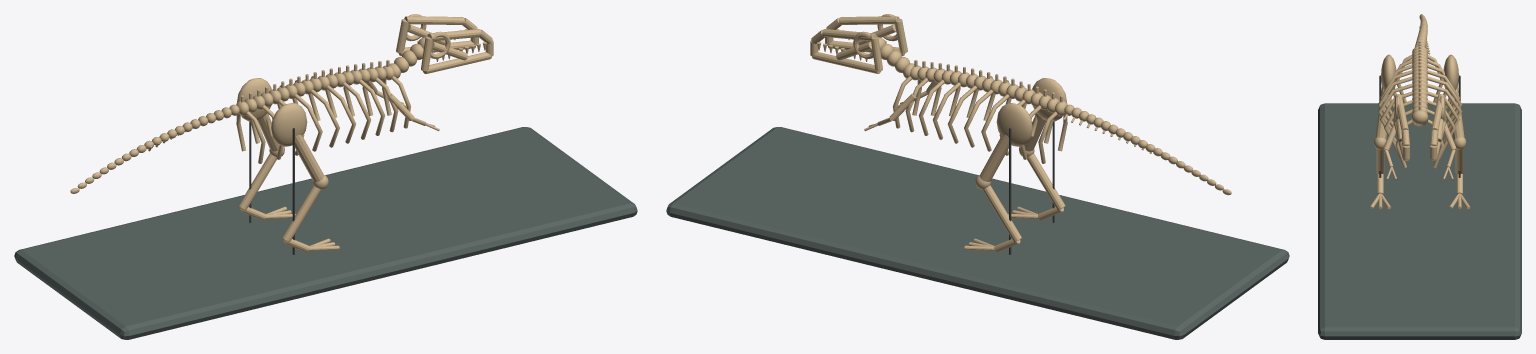
The model's file is TheropodSkeleton.glb.
3 renders of one model, left to right at view 1: azimuth 30°, elevation 25°; view 2: azimuth 150°, elevation 25°; view 3: azimuth 270°, elevation 25°, orthographic. The views are drawn at different scales.
Visible parts, largest first — view 1: Low fossil display base, Pelvic girdle, Femur, Pelvic girdle.001, Tibia.001, Tibia, Skull bone strut.003, Skull bone strut.006; view 2: Low fossil display base, Pelvic girdle.001, Femur.001, Pelvic girdle, Tibia, Tibia.001, Skull bone strut.009, Skull bone strut; view 3: Low fossil display base, Pelvic girdle, Pelvic girdle.001, Skull bone strut, Skull bone strut.006, Curved rib.008, Curved rib.009, Femur, Femur.001, Curved rib.010, Curved rib.011, Tibia (+8 smaller).
Boxes of the visible parts, bbox=[...] form: Low fossil display base: bbox=[14, 127, 637, 339]; Pelvic girdle: bbox=[271, 103, 307, 146]; Femur: bbox=[295, 134, 324, 181]; Pelvic girdle.001: bbox=[237, 78, 271, 121]; Tibia.001: bbox=[238, 153, 276, 210]; Tibia: bbox=[282, 185, 320, 242]; Skull bone strut.003: bbox=[423, 52, 491, 73]; Skull bone strut.006: bbox=[404, 16, 464, 24]; Low fossil display base: bbox=[666, 127, 1289, 339]; Pelvic girdle.001: bbox=[996, 103, 1032, 146]; Femur.001: bbox=[979, 134, 1008, 181]; Pelvic girdle: bbox=[1032, 78, 1066, 121]; Tibia: bbox=[1027, 153, 1065, 210]; Tibia.001: bbox=[983, 185, 1021, 242]; Skull bone strut.009: bbox=[812, 52, 880, 73]; Skull bone strut: bbox=[839, 16, 899, 24]; Low fossil display base: bbox=[1318, 103, 1521, 339]; Pelvic girdle: bbox=[1381, 54, 1396, 94]; Pelvic girdle.001: bbox=[1443, 54, 1458, 94]; Skull bone strut: bbox=[1395, 94, 1408, 130]; Skull bone strut.006: bbox=[1431, 94, 1444, 130]; Curved rib.008: bbox=[1377, 76, 1412, 126]; Curved rib.009: bbox=[1427, 76, 1462, 126]; Femur: bbox=[1375, 86, 1391, 138]; Femur.001: bbox=[1448, 86, 1464, 138]; Curved rib.010: bbox=[1377, 83, 1412, 129]; Curved rib.011: bbox=[1427, 83, 1462, 129]; Tibia: bbox=[1376, 148, 1384, 173].
Size of the model in its own units: 9.6 by 3.42 by 3.6.
